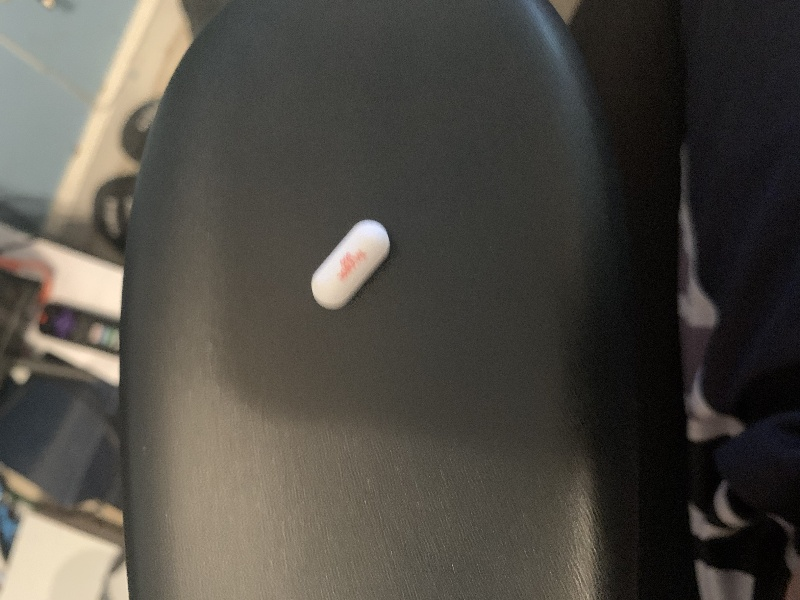Tylenol: (308, 211, 395, 314)
